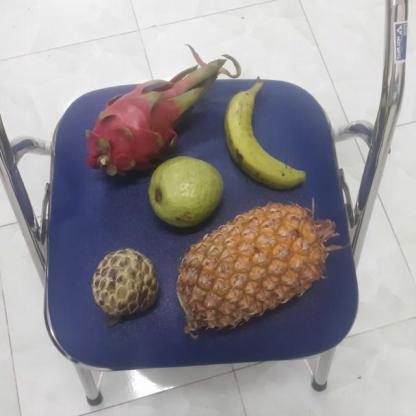annona: (90, 248, 162, 320)
banana: (222, 83, 310, 192)
guava: (145, 155, 228, 232)
pineapple: (180, 202, 338, 336)
pitaya: (92, 78, 202, 178)
